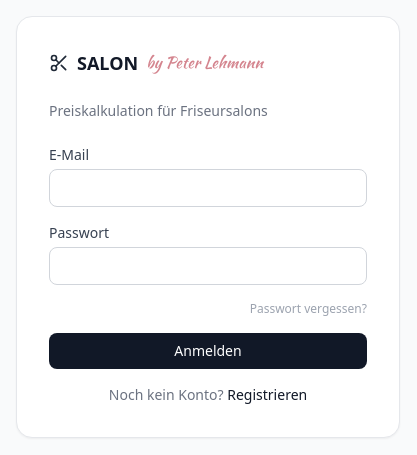
Test: LoginPage › disables button while loading
Type "test@example.com" into the field. click: x=208, y=188
box: [49,169,367,207]
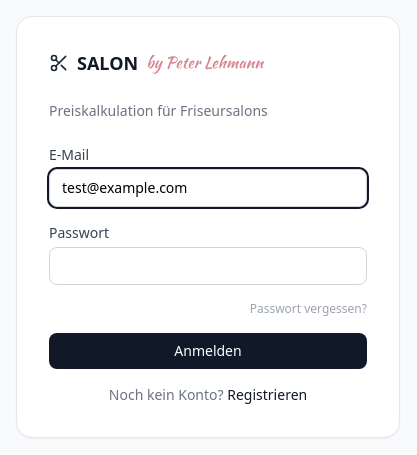
Type "password123" into the password field. click: x=208, y=266
box: [49,247,367,285]
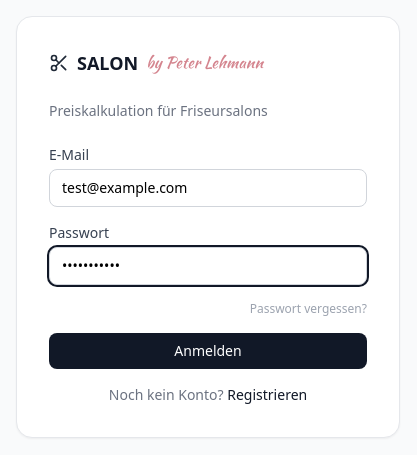
Submit the form from the button "Anmelden", box [49,333,367,369]
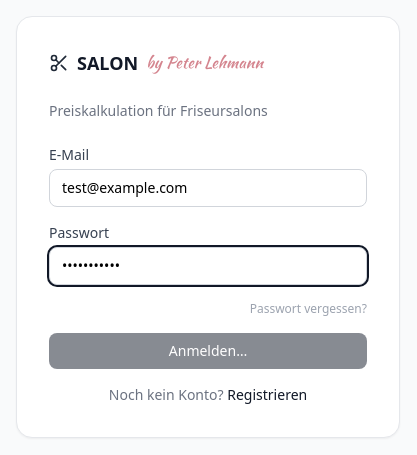
Now the button "Anmelden…" is disabled, box [49,333,367,369]
